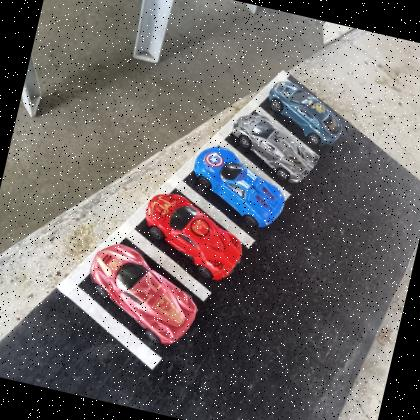Car: (76, 238, 209, 351), (134, 188, 252, 285), (183, 141, 293, 231), (222, 109, 326, 188), (260, 77, 350, 150)
